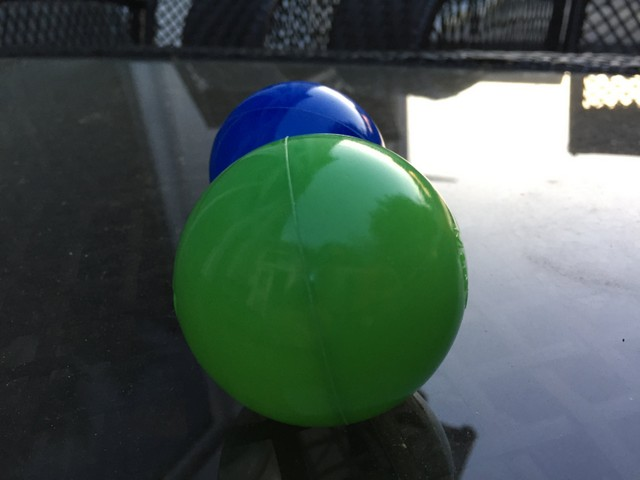Ball: (174, 133, 469, 430)
